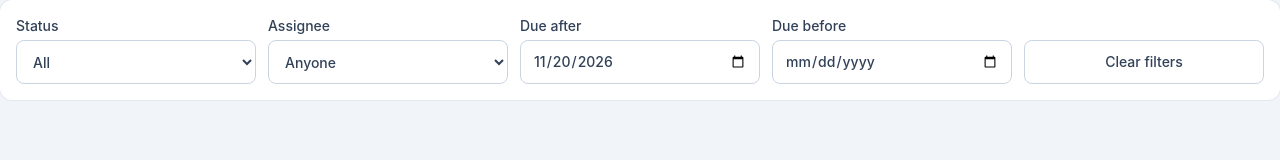
Test: shows an error for an inverted range and does not emit it
Type "2026-11-10" into the date field labelled "Due before" at (892, 62), box [772,40,1012,84]
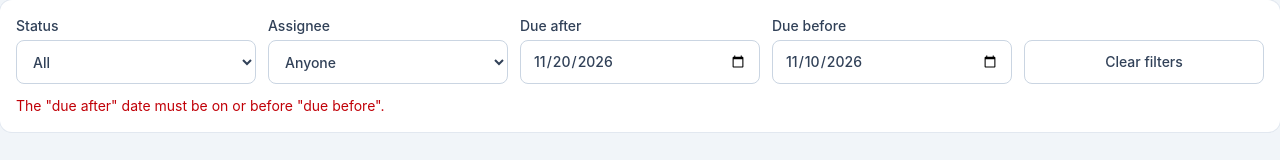
Now the message shows "after", box [16,97,384,114]
